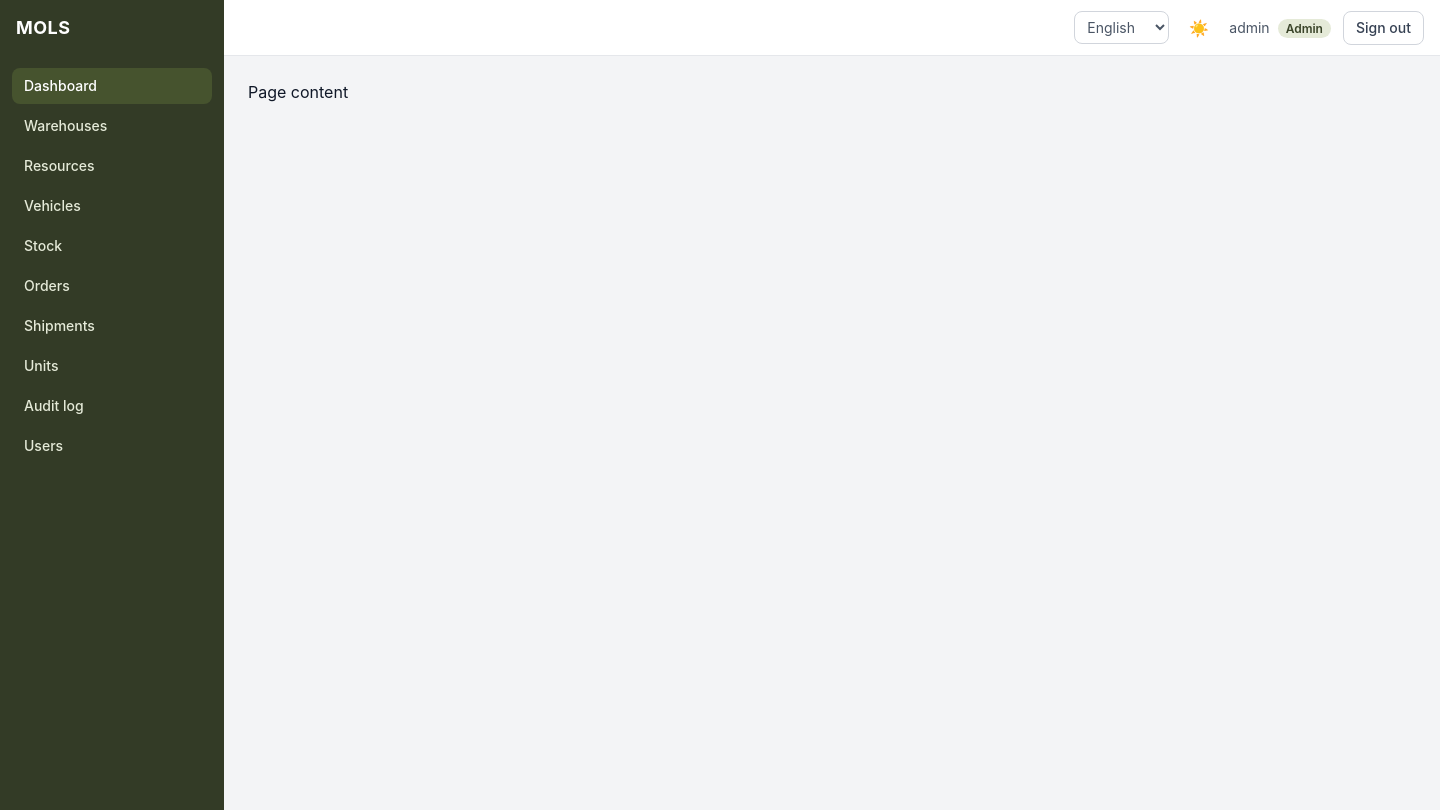
Test: AppLayout: language switcher › switching the language select re-renders nav labels in the chosen language
The image size is (1440, 810).
Select "Français" in the dropdown at (1122, 28), box [1074,11,1169,44]
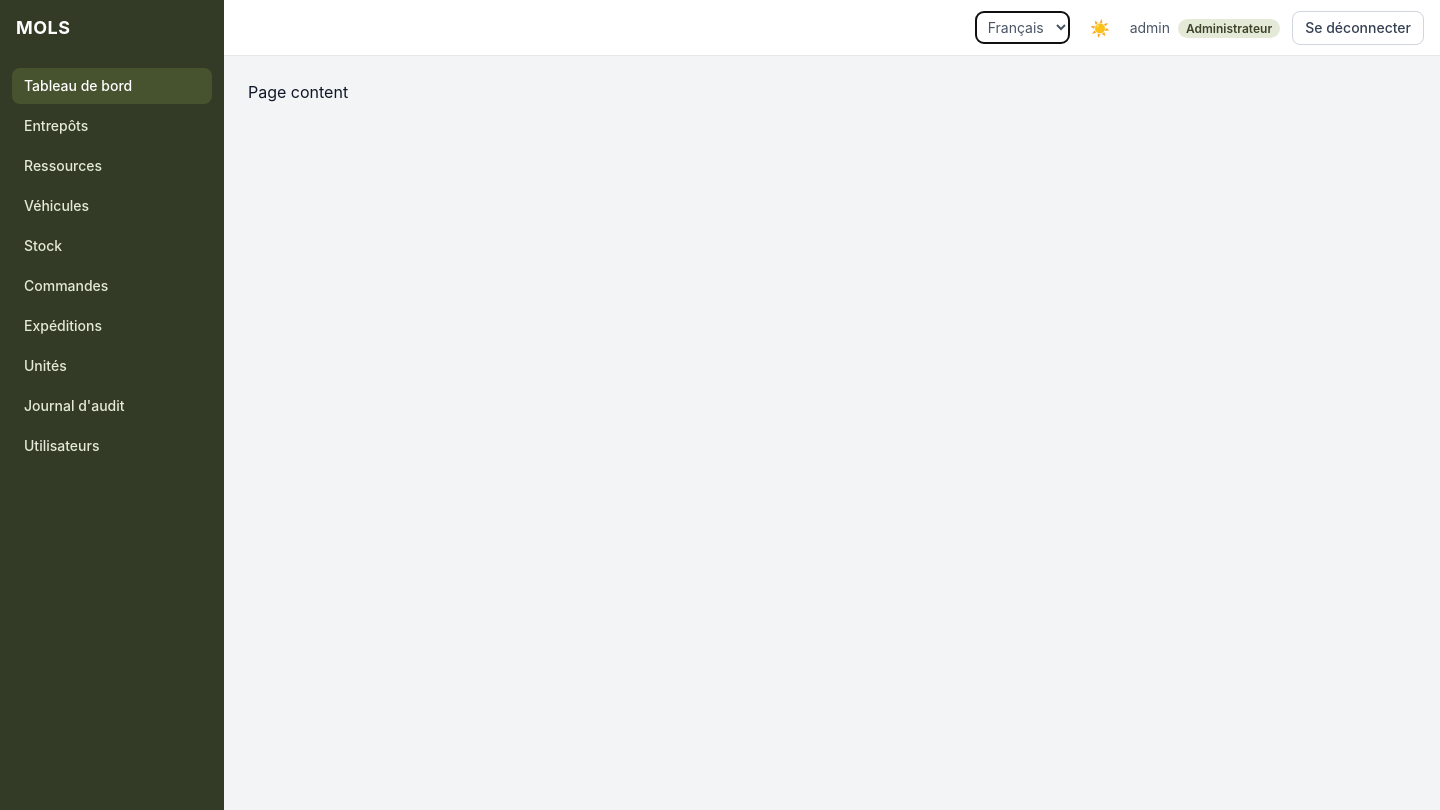
Check: the link "Entrepôts" is shown, box [24,117,88,134]
Check: the link "Warehouses" is gone
